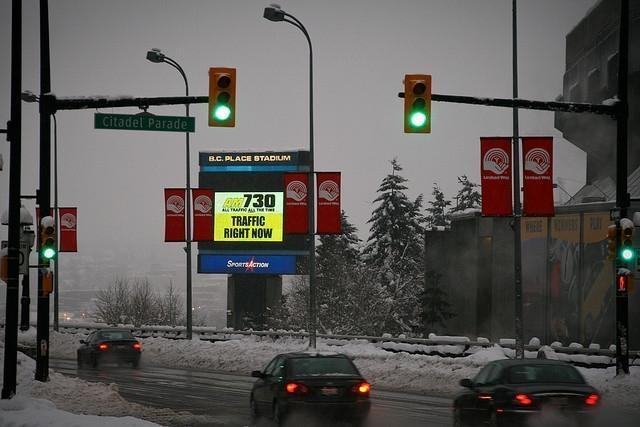car: (249, 350, 372, 427), (452, 362, 601, 422), (77, 330, 142, 368)
